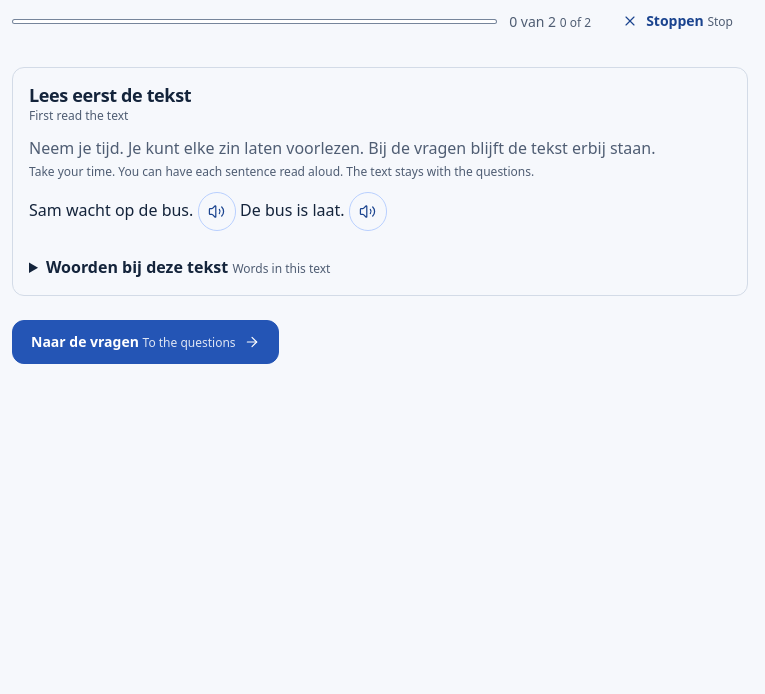
Scenario: a session inside a practice topic › sends the finish with the last verdict, so leaving before Verder still counts the answers
The image size is (765, 694).
Click the button "Naar de vragen To the questions".
click(145, 342)  # box left=12, top=320, right=279, bottom=364
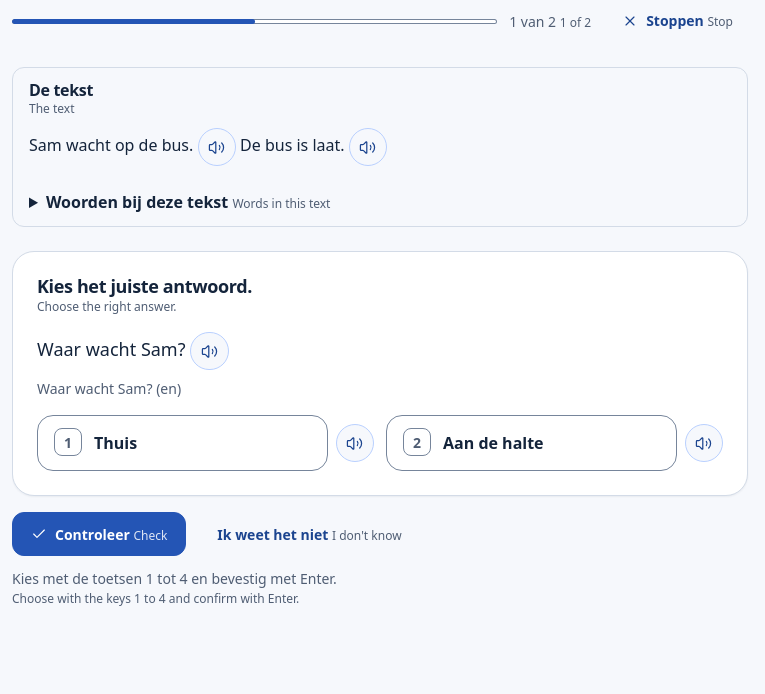
Expected: the text "Waar wacht Sam?" is shown, left=37, top=337, right=186, bottom=361
Click the radio button labelled "2 Aan de halte".
click(531, 443)  # box left=386, top=415, right=677, bottom=471
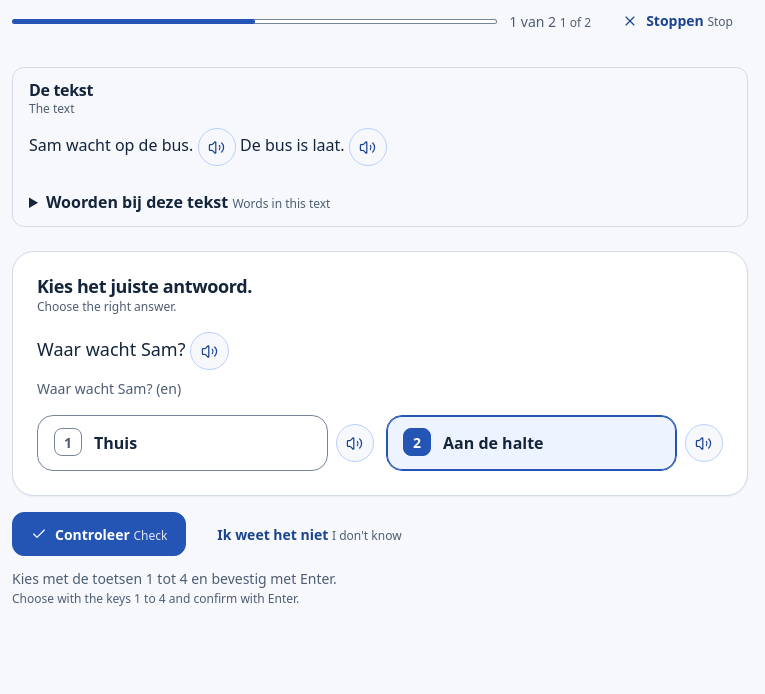
Click the button "Controleer Check".
click(99, 534)  # box left=12, top=512, right=186, bottom=556
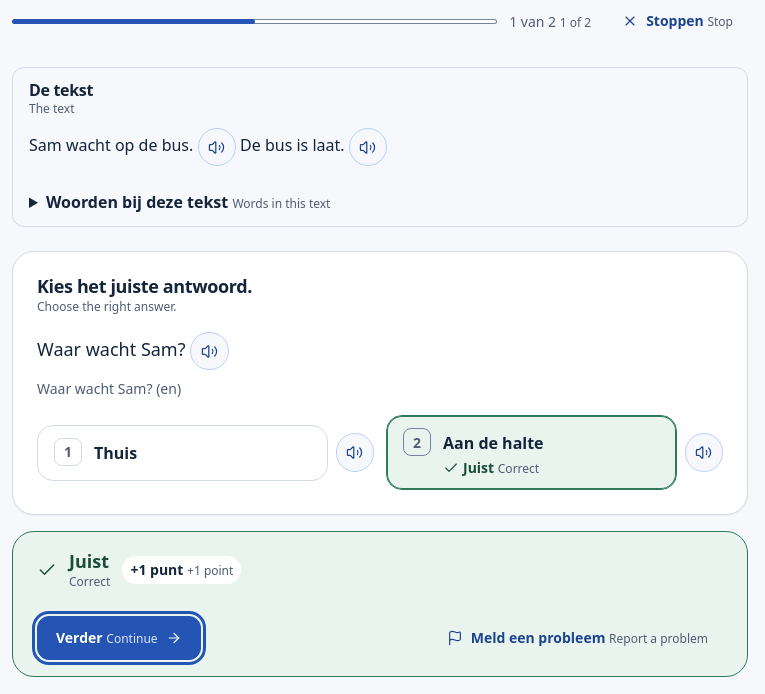
Expected: the button "Verder Continue" is shown
Click the button "Verder Continue".
click(119, 638)  # box left=37, top=616, right=201, bottom=660
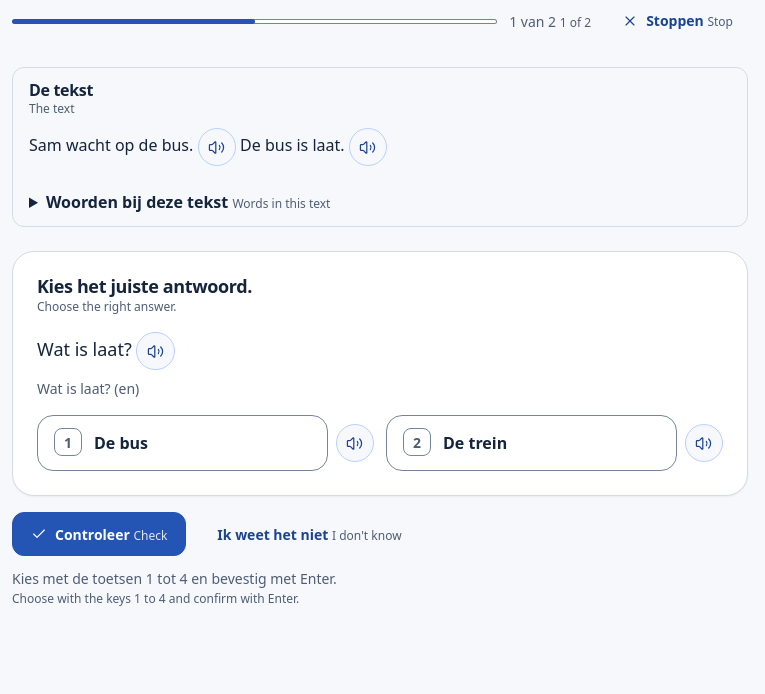
Expected: the text "Wat is laat?" is shown, left=37, top=337, right=132, bottom=361
Click the radio button labelled "2 De trein".
click(475, 443)  # box left=386, top=415, right=677, bottom=471
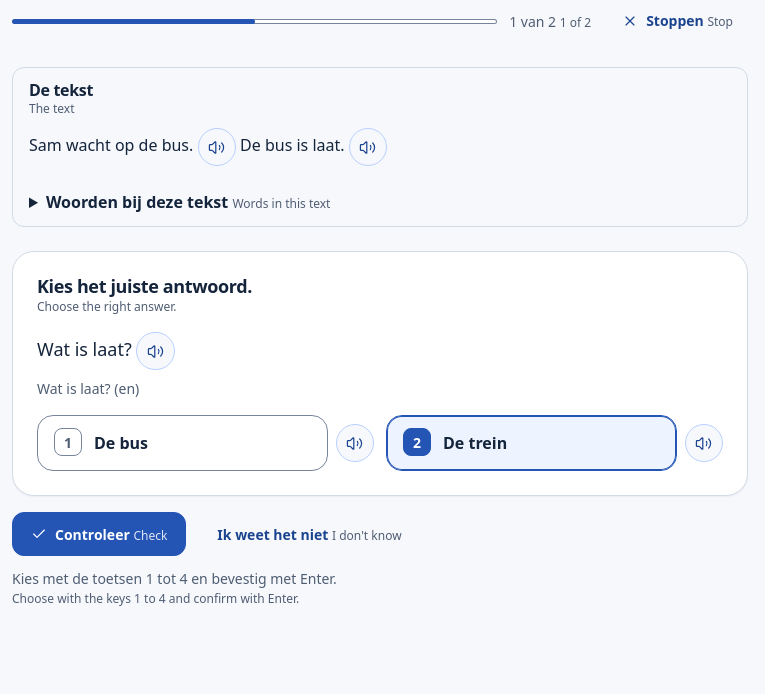
Click the button "Controleer Check".
click(99, 534)  # box left=12, top=512, right=186, bottom=556
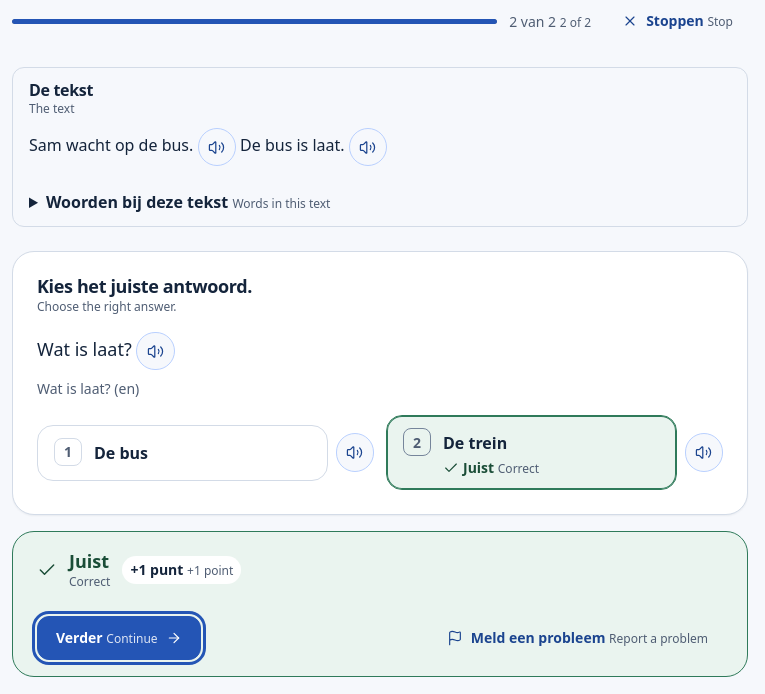
Expected: the button "Verder Continue" is shown, left=37, top=616, right=201, bottom=660
